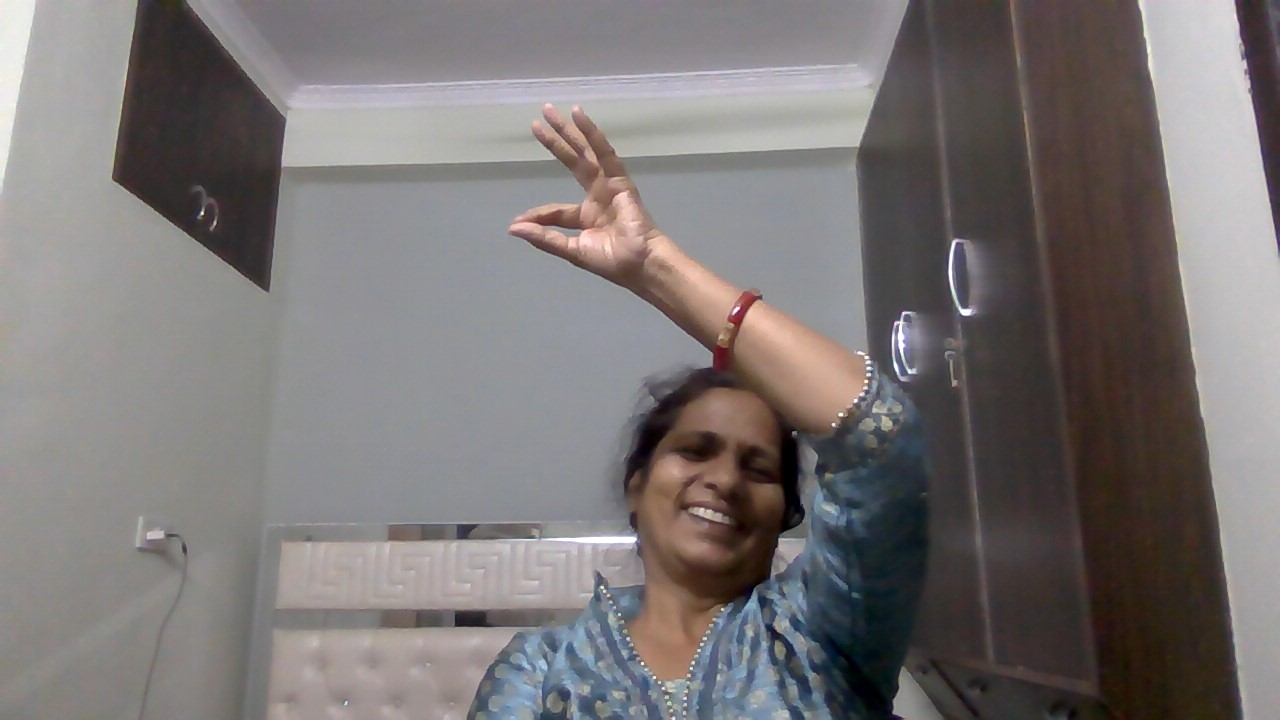Copy: (498, 95, 664, 302)
